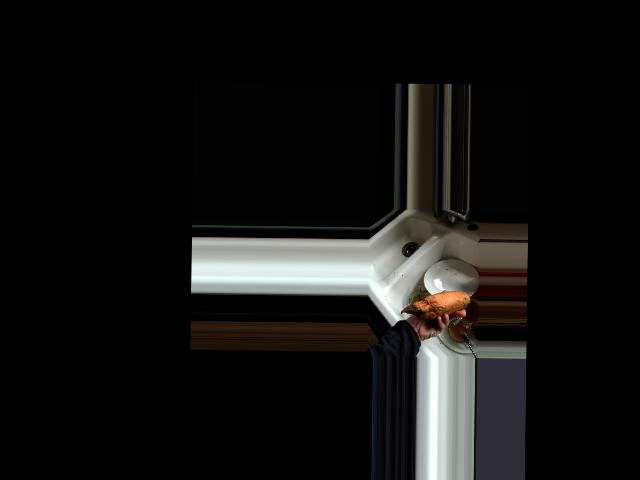sweet_potato: (400, 288, 470, 319)
